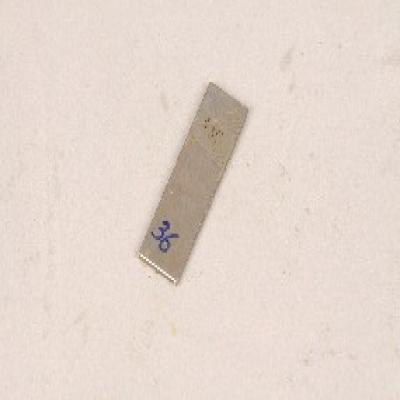technique: (136, 82, 250, 286)
